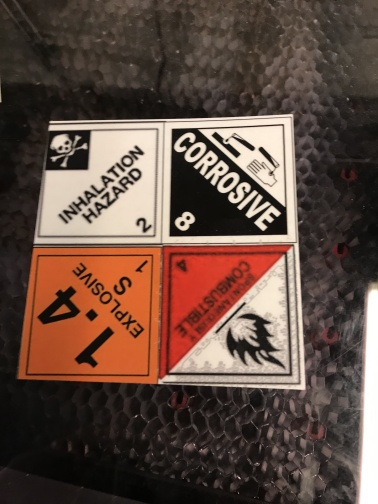Corrosive: (164, 119, 297, 244)
Explosive: (19, 248, 160, 381)
InhalationHazard: (34, 123, 163, 244)
SpontaneouslyCombustible: (162, 247, 303, 385)
